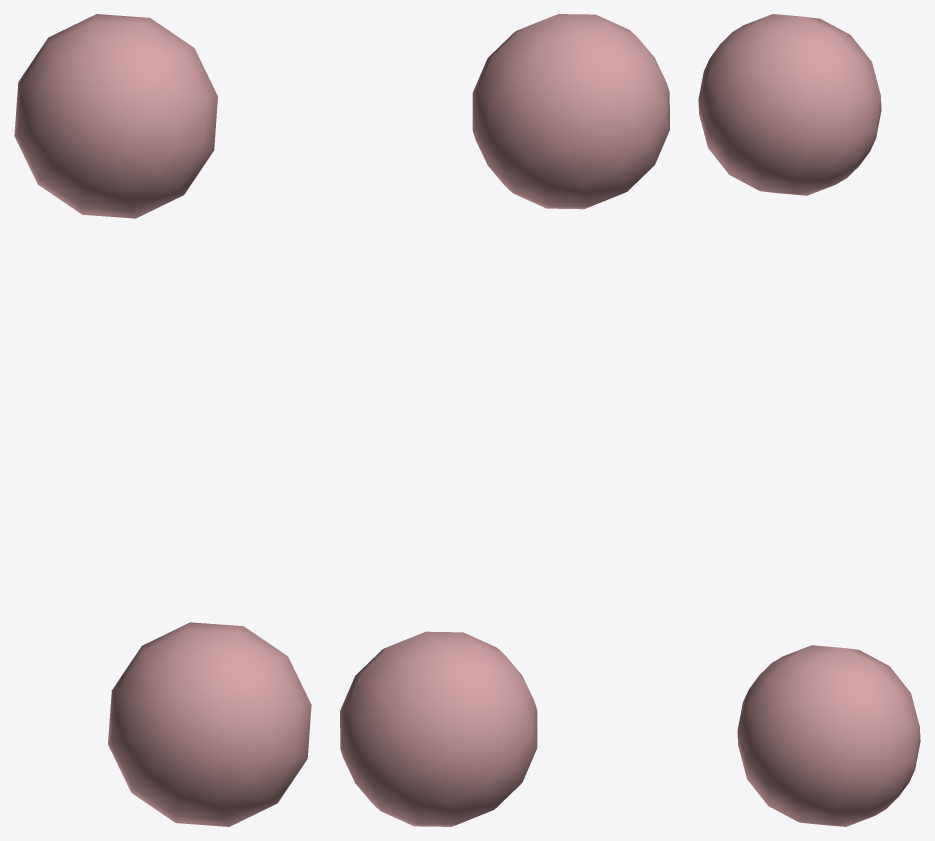
3 views of the same model, side by side, from view 1: azimuth 30°, elevation 25°; view 2: azimuth 150°, elevation 25°; view 3: azimuth 270°, elevation 25° (orthographic). The views are drawn at different scales.
Visible parts, largest first — view 1: ZA_b1ec787bd620490d; view 2: ZA_b1ec787bd620490d; view 3: ZA_b1ec787bd620490d.
Boxes of the visible parts, x1=… form: ZA_b1ec787bd620490d: x1=14, y1=14, x2=311, y2=826; ZA_b1ec787bd620490d: x1=340, y1=14, x2=669, y2=826; ZA_b1ec787bd620490d: x1=698, y1=14, x2=920, y2=826.
Bounding box in the file's own units: 0.00422 × 0.0115 × 0.00311.
